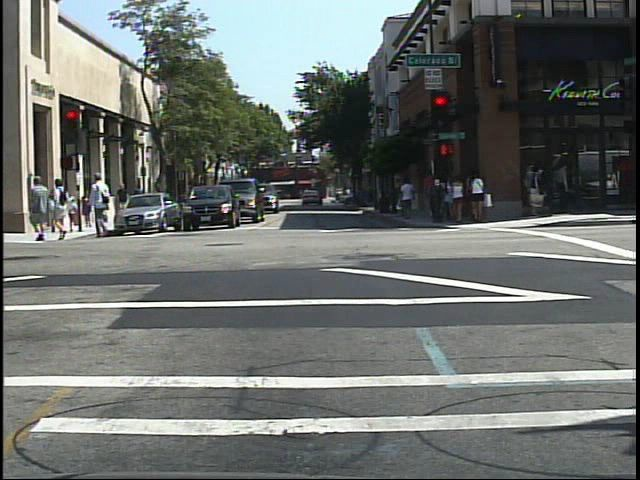person: (27, 172, 50, 245), (51, 176, 75, 245), (91, 170, 115, 237)
